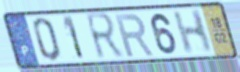0: (32, 16, 64, 64)
1: (62, 14, 86, 62)
6: (149, 12, 179, 56)
H: (171, 8, 215, 56)
R: (83, 11, 127, 63), (113, 13, 156, 59)
